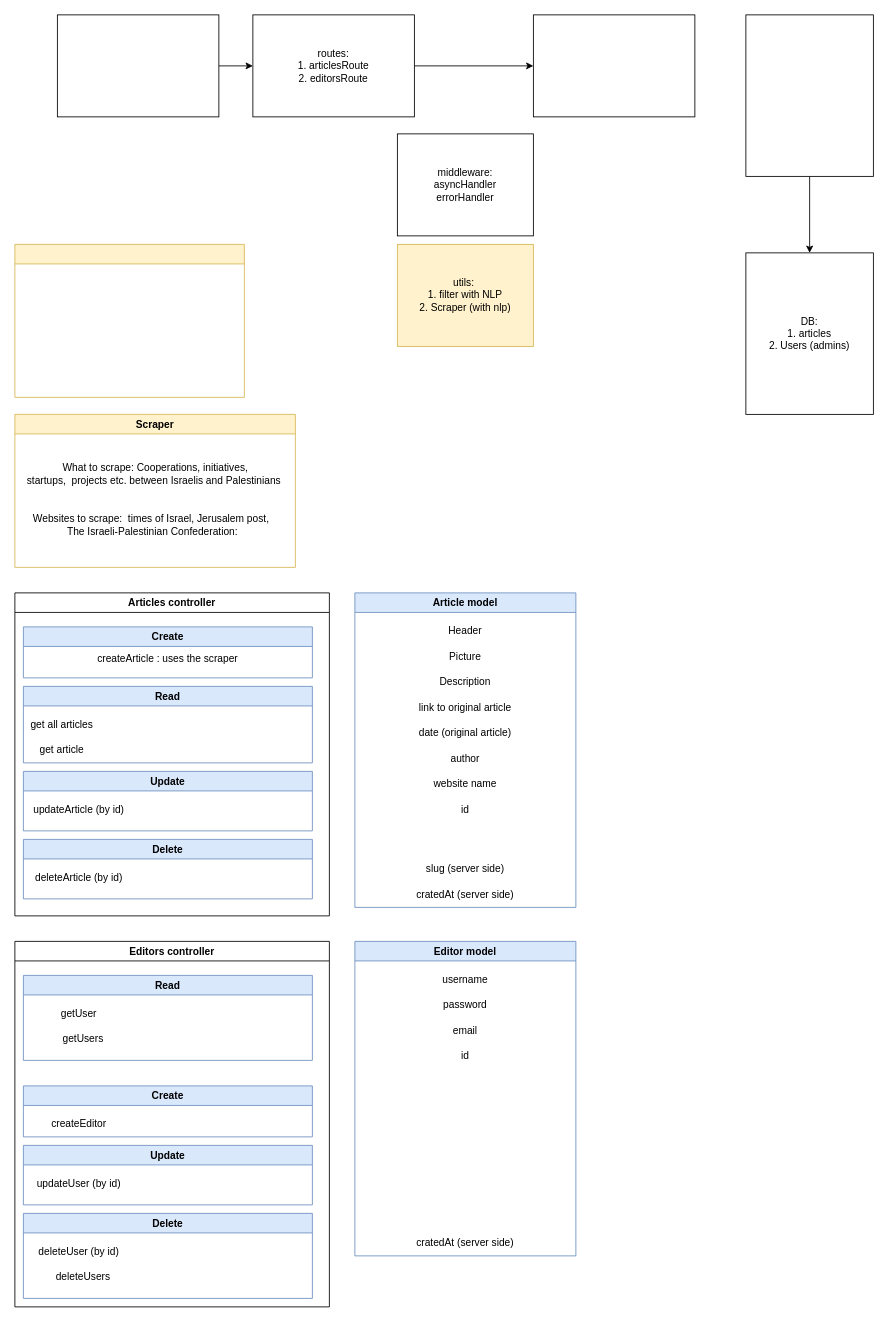
Image size: 888x1322. Some labels were removed from this diagram. The shapes that lost their labels are listed below. From the top down, each one's centre as x and y in pixels, then its label:
point (138, 65): Server
point (614, 65): controllers: 1. articles controller 2. editorsController
point (809, 95): Models: 1. Article 2. Editor
point (129, 320): NLP filter function
